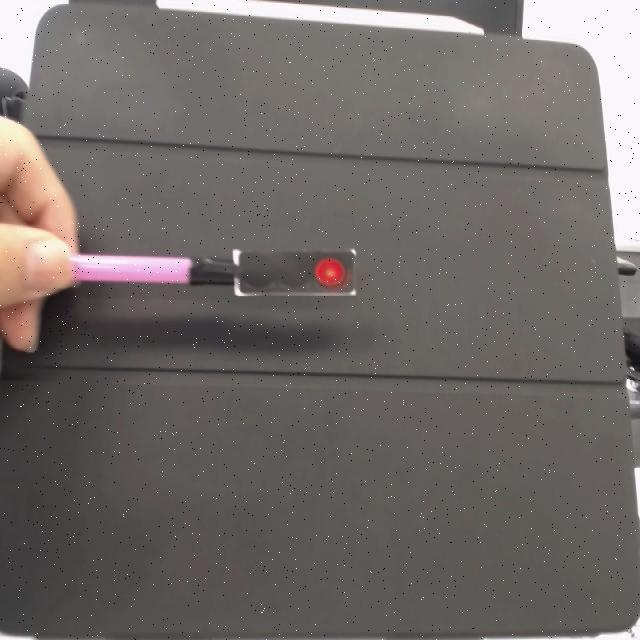traffic light: (231, 247, 362, 304)
